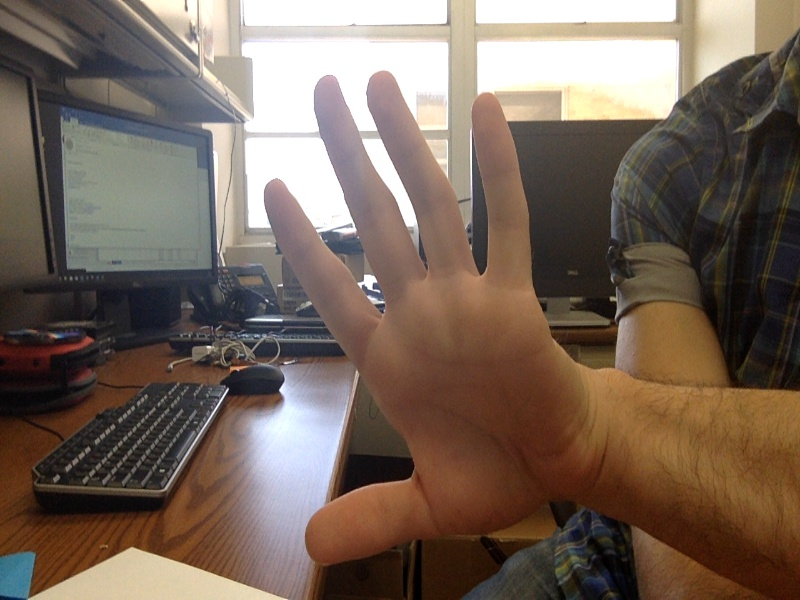5-hand: (260, 76, 591, 571)
